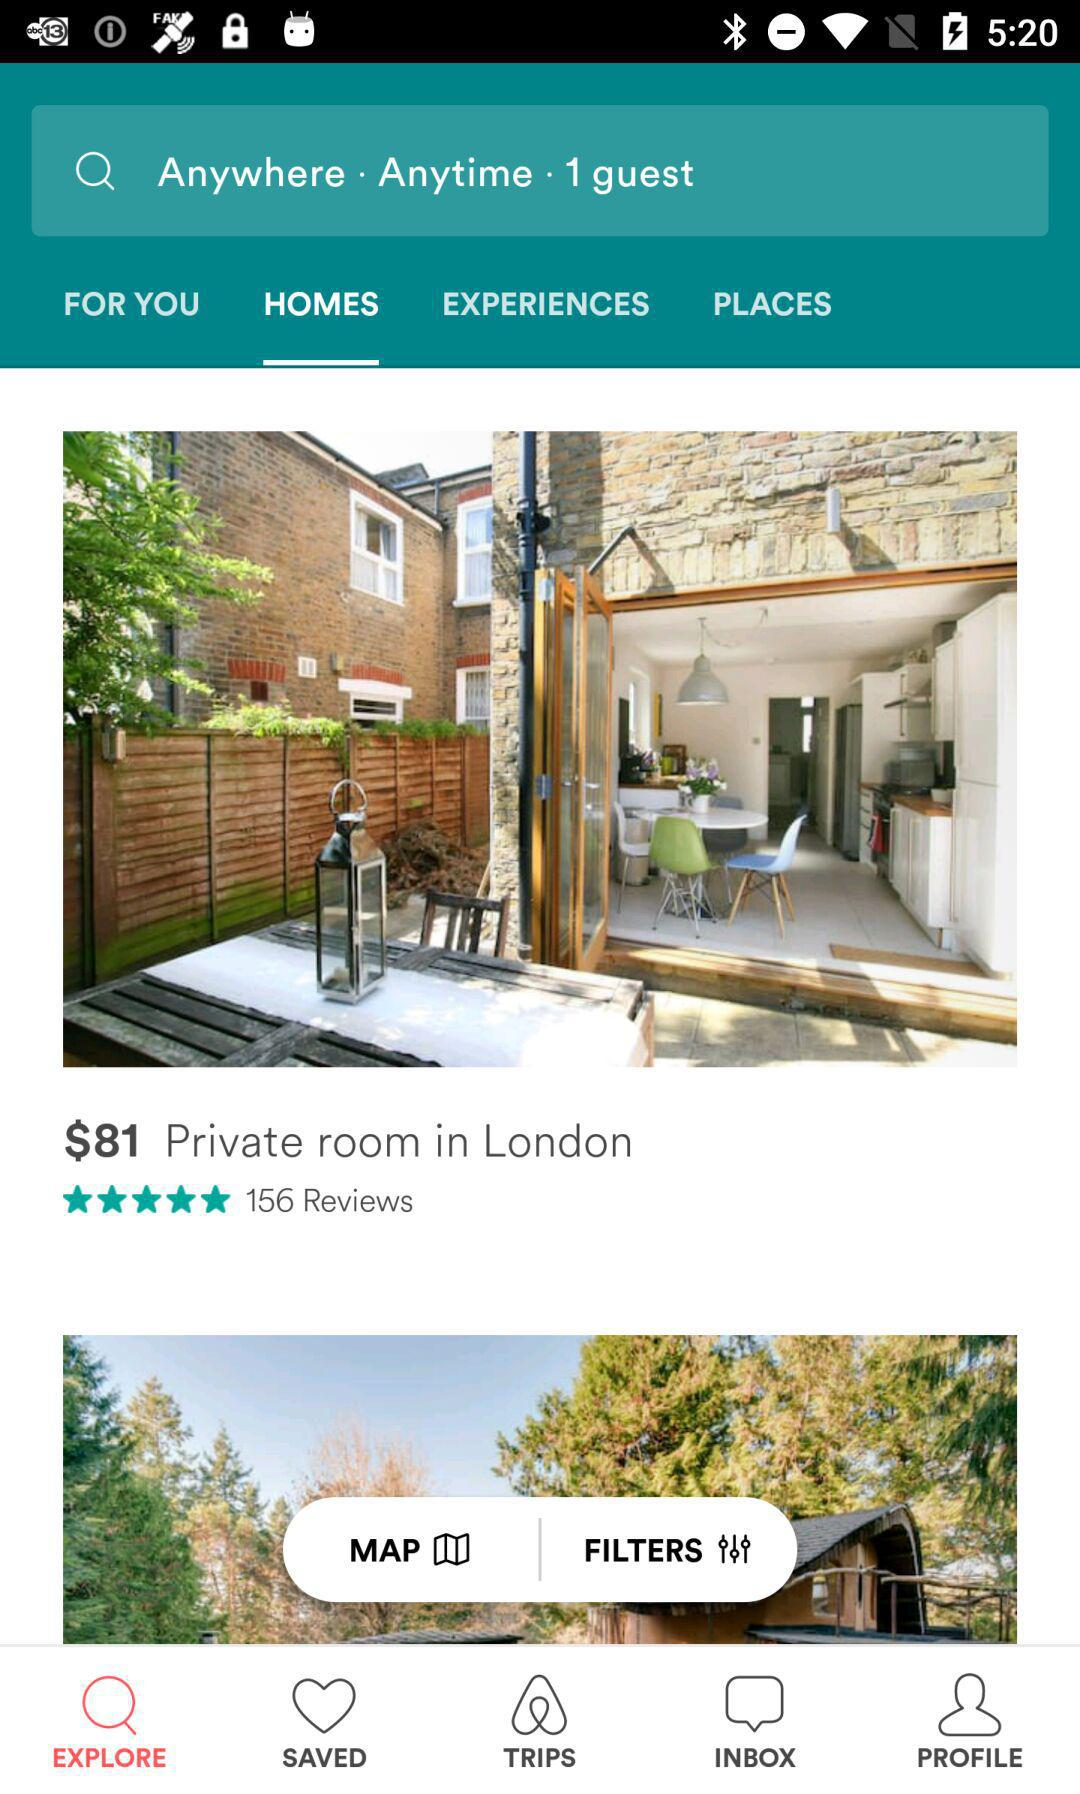Bottom_Navigation: (1, 1645, 1080, 1794)
EditText: (31, 105, 1051, 238)
Icon: (63, 1184, 232, 1215), (938, 1672, 1002, 1738), (292, 1677, 357, 1735), (82, 1675, 138, 1738), (725, 1675, 785, 1732), (76, 152, 117, 192)
Image: (64, 432, 1017, 1067), (63, 1335, 1017, 1644), (511, 1674, 569, 1738)
Text: (65, 1119, 632, 1164), (158, 158, 694, 197), (443, 292, 650, 318), (246, 1187, 414, 1214), (65, 291, 200, 318), (714, 292, 831, 318), (266, 292, 380, 318), (54, 1747, 168, 1768), (919, 1747, 1024, 1768), (283, 1747, 368, 1768), (715, 1747, 797, 1768), (503, 1747, 577, 1768)
TextButton: (541, 1497, 798, 1603), (283, 1497, 541, 1603)
UpperTaskBar: (1, 1, 1080, 64)
